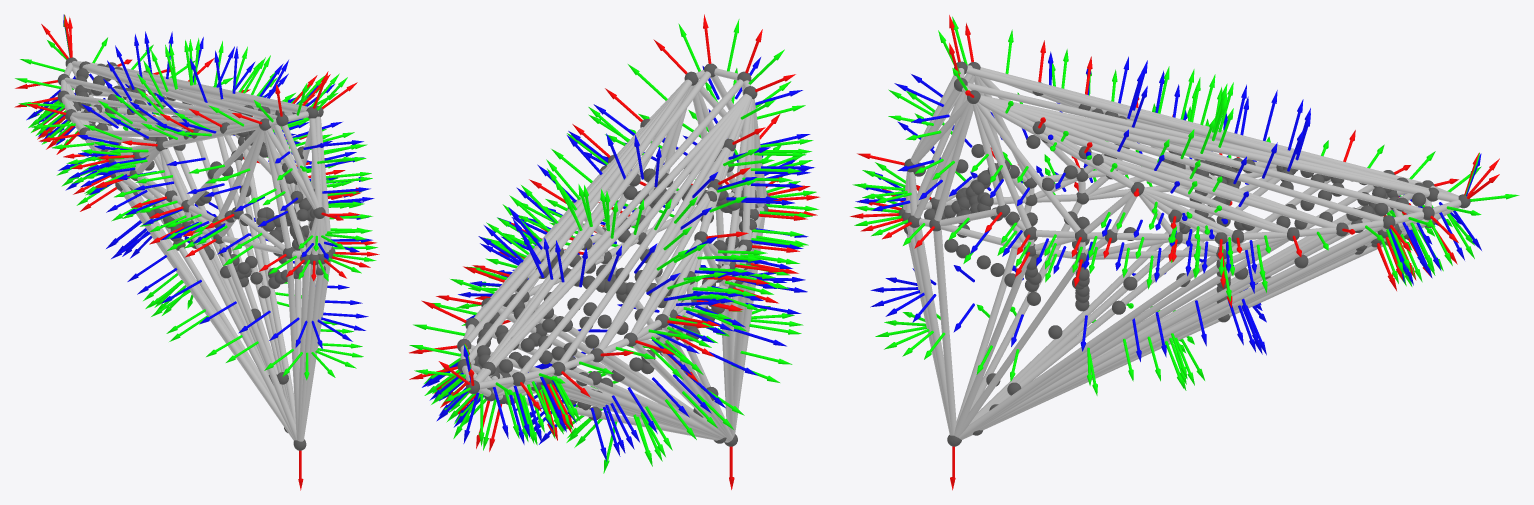
File: ils_boat.gltf
The picture shows the model from 3 angles, left to right: view 1: azimuth 30°, elevation 25°; view 2: azimuth 150°, elevation 25°; view 3: azimuth 270°, elevation 25°; orthographic projection. The views are drawn at different scales.
Size of the model in its own units: 0.4018 by 0.7215 by 0.9475.
